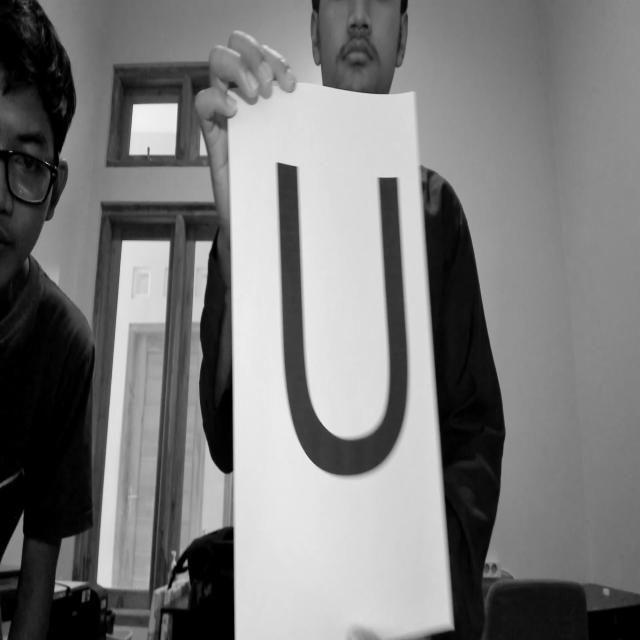u: (258, 148, 432, 498)
